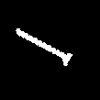half_double_crochet: (16, 29, 71, 65)
